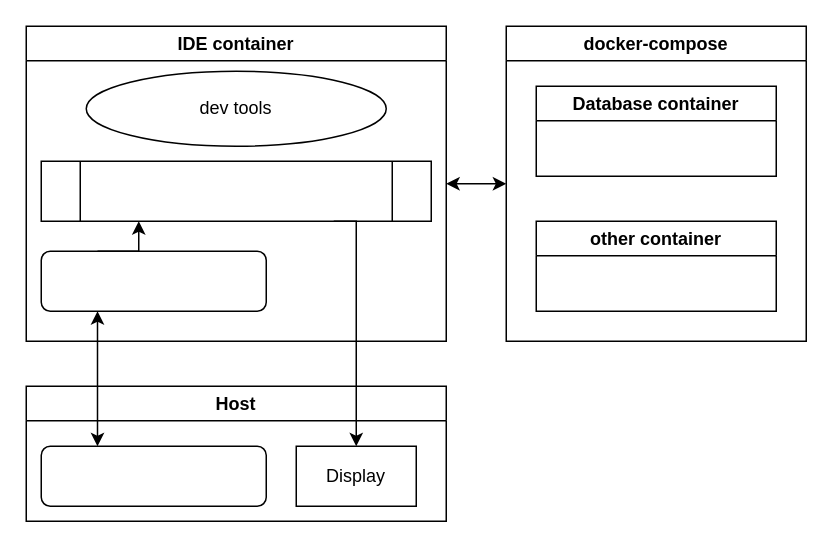
Image size: 833x548. Some labels were removed from this diagram. The shapes that lost their labels are listed below. From the top down, each one's box as (x1, y1, x2, y2) in pixels, then its label:
(40, 160, 431, 221): IDE /home/username/my-ide/start.sh
(40, 250, 266, 311): volume /home/username
(40, 445, 266, 506): /home/username
